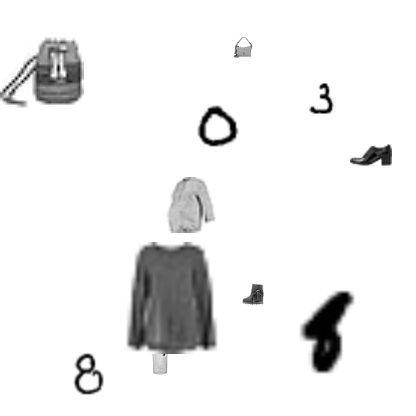0: (188, 98, 244, 154)
3: (302, 79, 344, 121)
8: (269, 272, 381, 384), (59, 346, 115, 402)
Ankle_boot: (350, 134, 392, 176), (242, 283, 264, 305)
Bag: (0, 29, 84, 113), (232, 36, 254, 58)
Shirt: (116, 242, 228, 354), (163, 177, 219, 233)
T-shirt/top: (146, 347, 174, 375)
